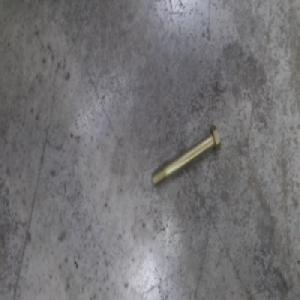Bolt: (149, 123, 221, 189)
